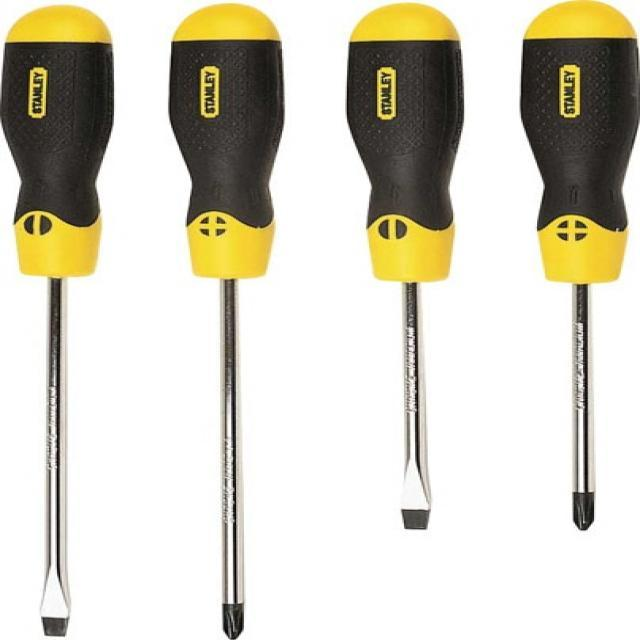screwdriver: (157, 3, 294, 640), (0, 2, 124, 639), (336, 0, 478, 534), (503, 0, 640, 537)
